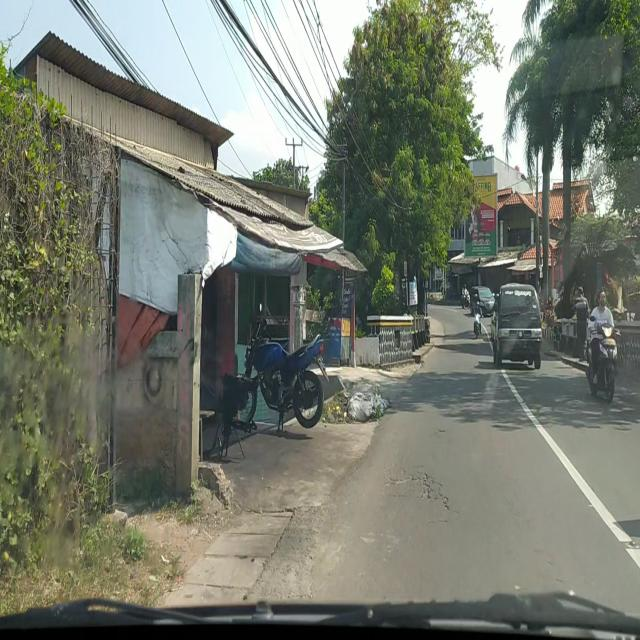Drain Hole: (388, 468, 450, 516)
